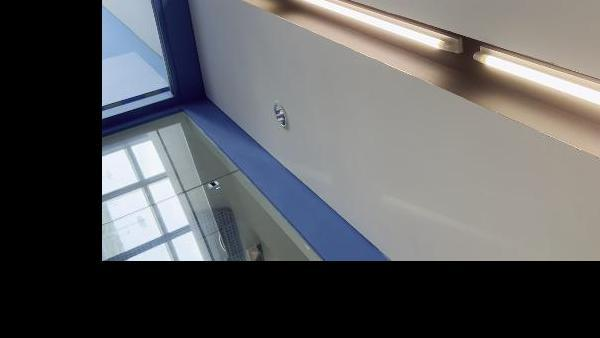light_on: (472, 38, 600, 152), (283, 0, 454, 77)
